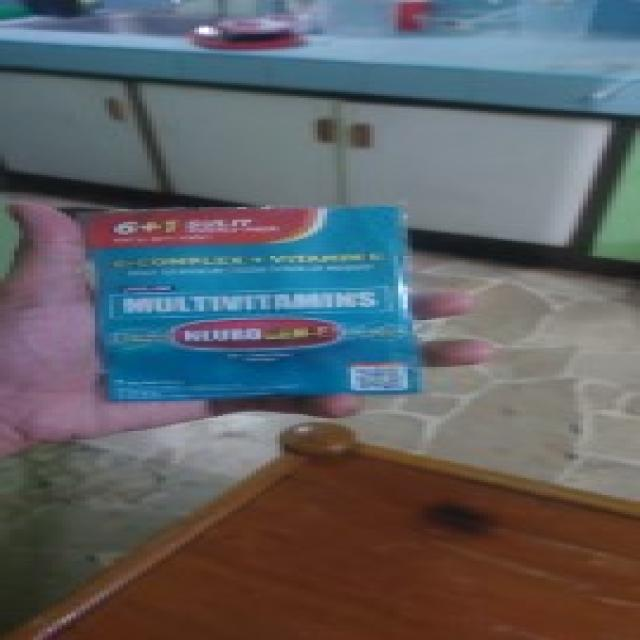Cacat: (96, 212, 415, 396)
